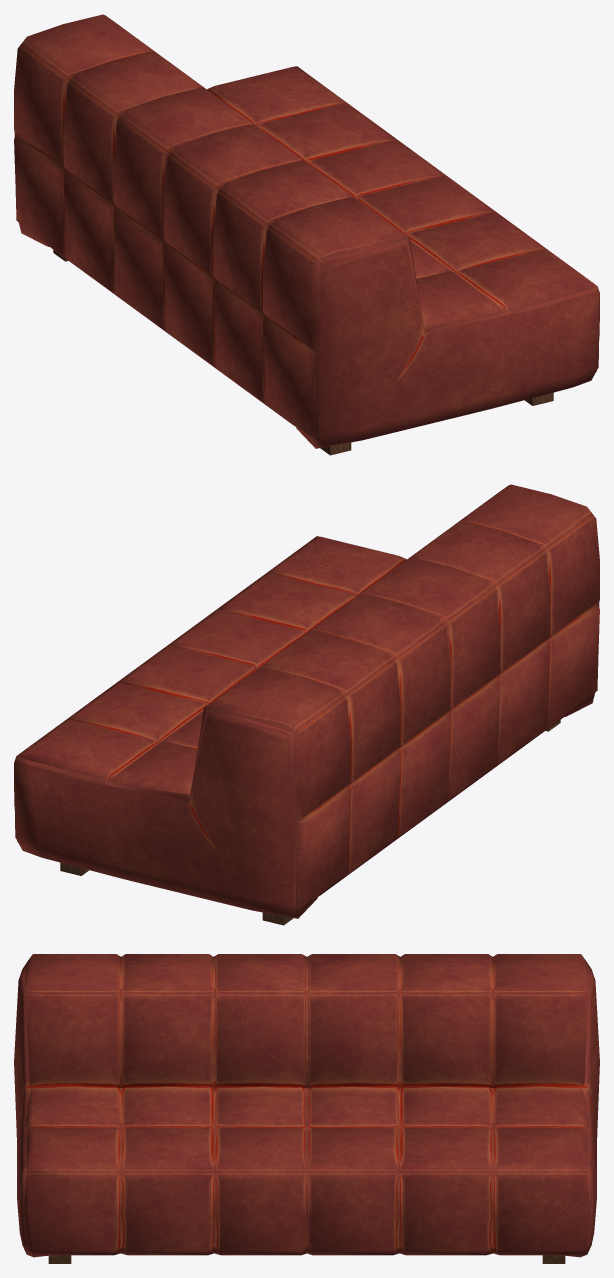
File: office_couch.glb
3 views of the same model, one above another, from view 1: azimuth 30°, elevation 25°; view 2: azimuth 150°, elevation 25°; view 3: azimuth 270°, elevation 25° (orthographic). The views are drawn at different scales.
Visible parts, largest first — view 1: Couch; view 2: Couch; view 3: Couch.
Boxes of the visible parts, left/top/right/bottom form: Couch: left=14, top=14, right=599, bottom=455; Couch: left=14, top=484, right=599, bottom=925; Couch: left=14, top=954, right=599, bottom=1263.
Size of the model in its own units: 1.21 by 0.8637 by 2.23.
Materials: 1 (1 with a texture image).
